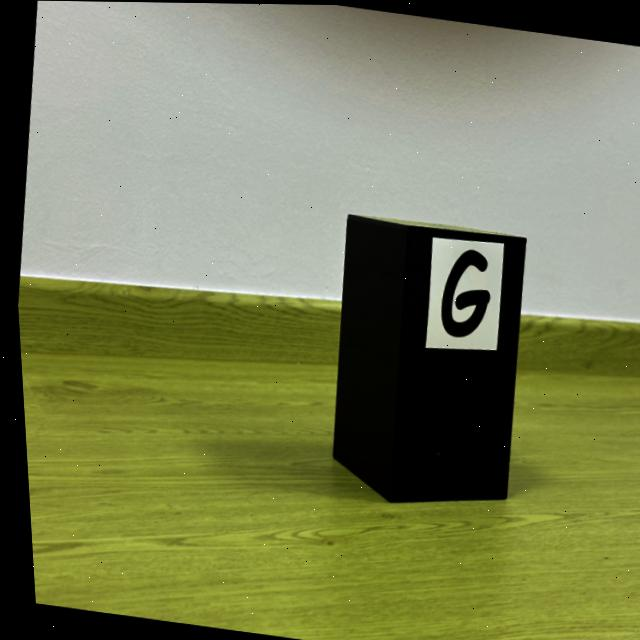G: (437, 248, 486, 335)
